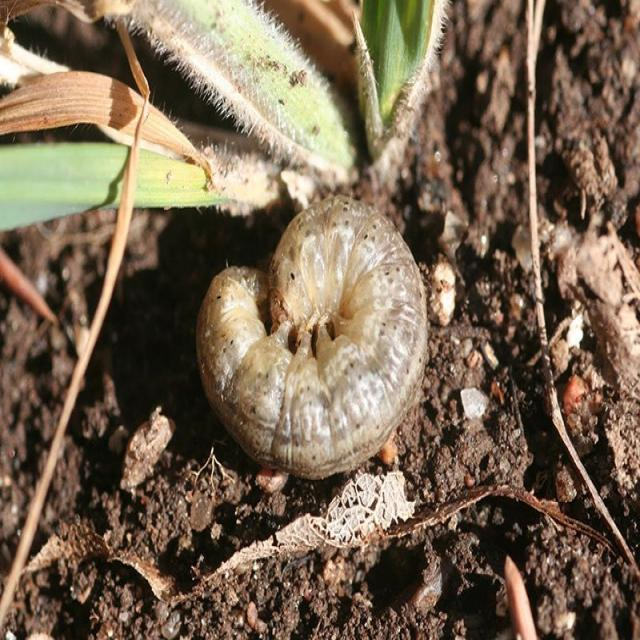Cutworm: (199, 192, 426, 465)
